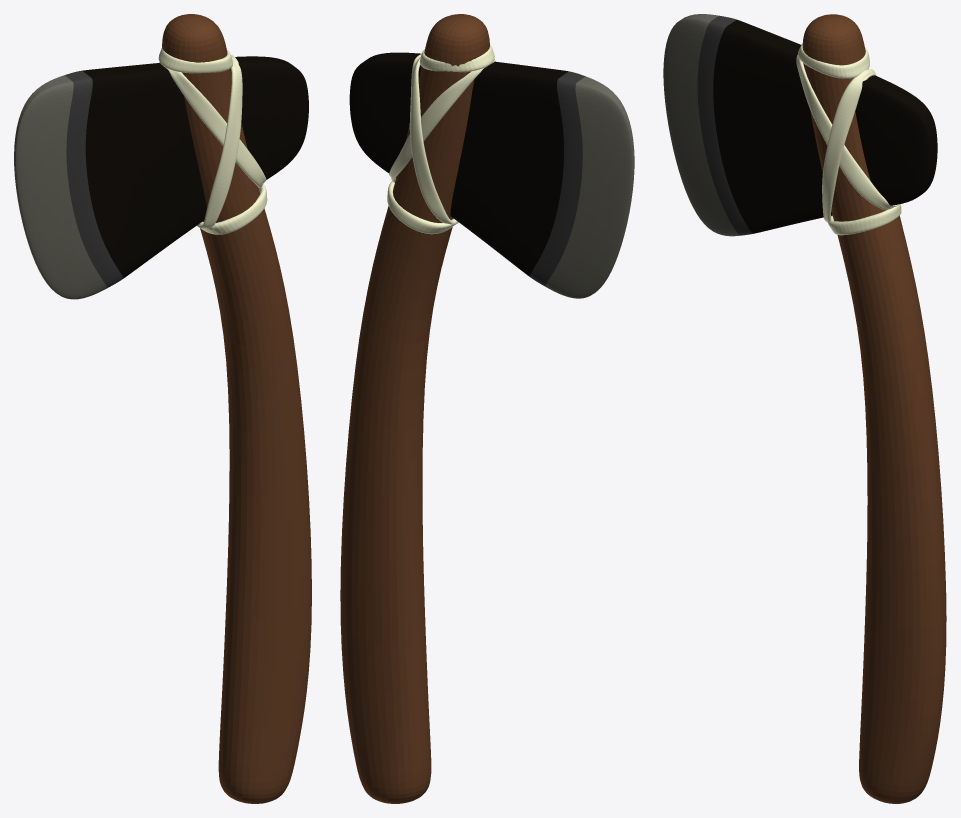
File: axe_flint 1.fbx
3 renders of one model, left to right at view 1: azimuth 30°, elevation 25°; view 2: azimuth 150°, elevation 25°; view 3: azimuth 330°, elevation 25°, orthographic. The views are drawn at different scales.
Parts seen in each view (by area): view 1: axe; view 2: axe; view 3: axe.
Boxes of the visible parts, left/top/right/bottom form: axe: left=14, top=14, right=311, bottom=803; axe: left=340, top=14, right=634, bottom=803; axe: left=663, top=14, right=946, bottom=803.
Bounding box in the file's own units: 67.26 × 176 × 15.51.
